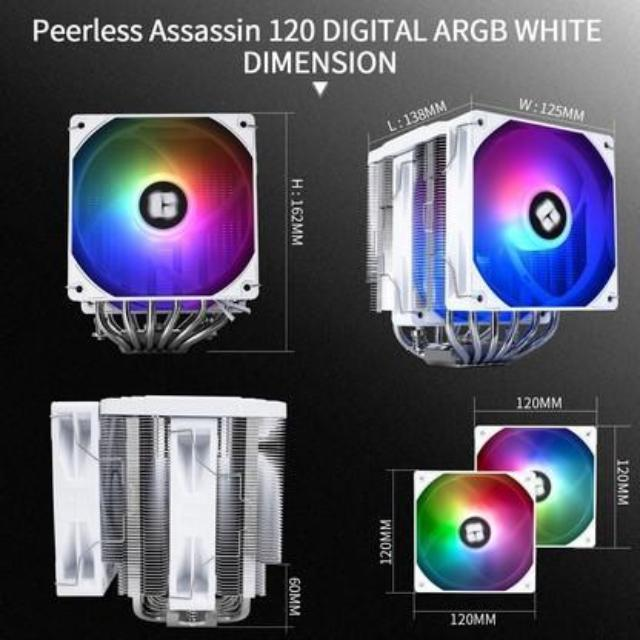CPU_Fan: (366, 100, 620, 366), (50, 395, 287, 627), (65, 110, 260, 352)
